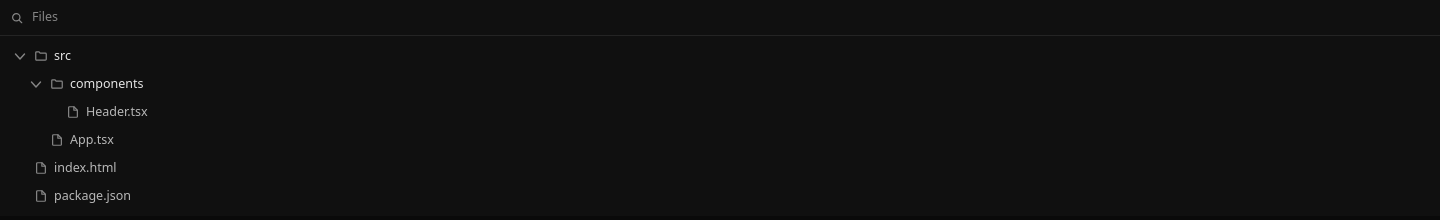
Test case: the tree › hides a directory's contents when it is collapsed
The width and height of the screenshot is (1440, 220).
Click the button "components" at point(107, 83), box [8,70,1432,98]
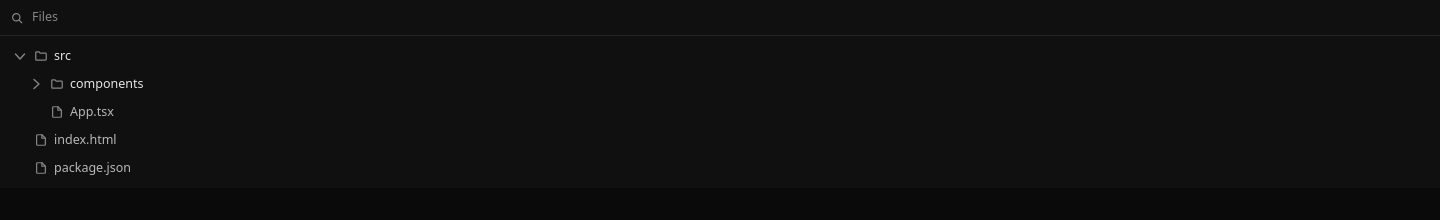
Check: the button "App.tsx" is shown, box [8,98,1432,126]
Check: the button "Header.tsx" is gone
